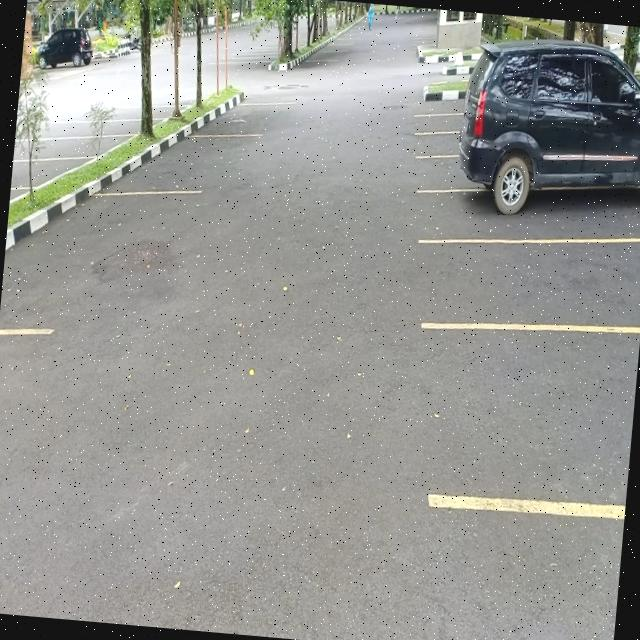empty: (435, 312, 640, 516), (17, 178, 192, 347), (431, 223, 640, 334), (134, 125, 252, 203), (220, 96, 284, 140), (34, 128, 114, 163), (66, 114, 140, 140), (10, 152, 60, 190)
occupied: (441, 116, 640, 253)
